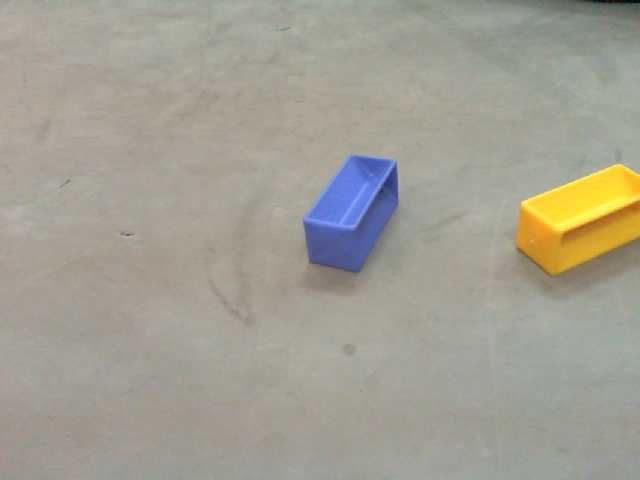BlueSample: (301, 154, 402, 283)
YellowSample: (511, 161, 640, 277)
